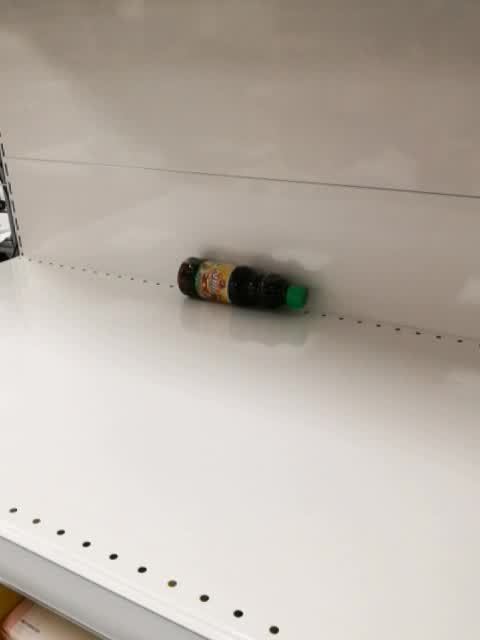cookingoil: (176, 254, 311, 313)
